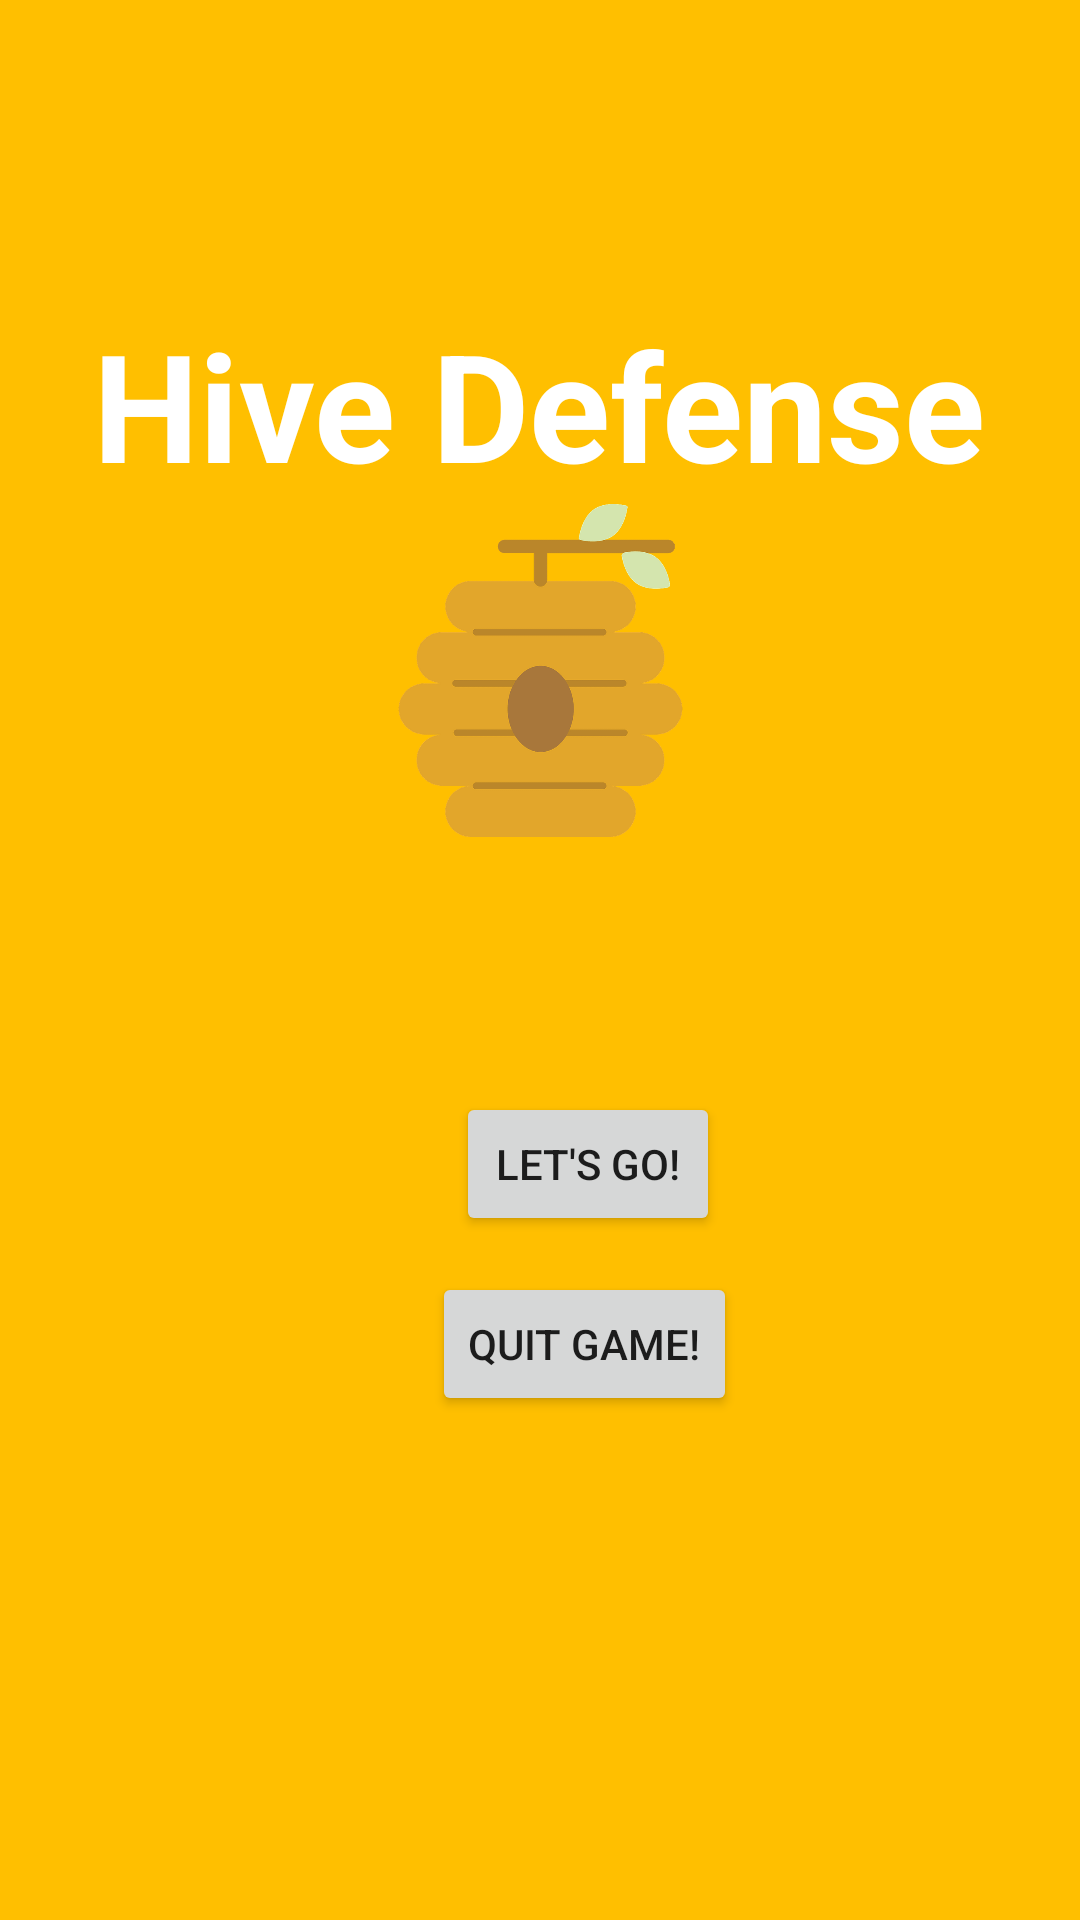

Named icons in this screenshot (1080 x 1920) and their bounding boxes, (x1, y1, x2, y2):
beehive: (399, 504, 682, 837)
